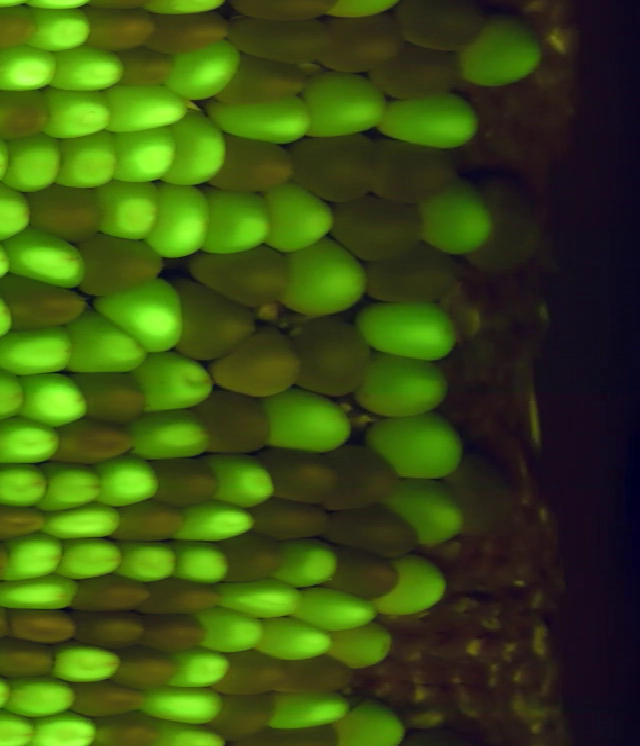fluorescent: (351, 345, 457, 415), (370, 412, 461, 484), (260, 392, 356, 458), (280, 242, 368, 314), (99, 283, 188, 353), (461, 18, 544, 90), (419, 179, 495, 256), (301, 71, 387, 139), (360, 303, 457, 363), (380, 95, 482, 149), (386, 480, 465, 549), (372, 554, 452, 619), (209, 94, 311, 144), (133, 350, 219, 409), (1, 229, 87, 288), (65, 312, 149, 371), (205, 188, 278, 254), (264, 182, 334, 249), (151, 183, 210, 261), (18, 368, 94, 428), (167, 110, 225, 187), (204, 451, 279, 510), (292, 585, 380, 633), (321, 618, 397, 673), (0, 324, 80, 376), (257, 615, 339, 665), (214, 578, 304, 623), (106, 126, 178, 180), (106, 81, 185, 130), (130, 414, 211, 461), (98, 180, 160, 241), (45, 85, 113, 139), (175, 502, 258, 544), (142, 686, 227, 727), (268, 689, 355, 729), (194, 609, 268, 656), (0, 137, 61, 193), (99, 456, 162, 509), (333, 703, 410, 746), (48, 46, 125, 89), (35, 462, 103, 510), (55, 135, 116, 188), (168, 48, 238, 94), (118, 540, 179, 589), (58, 537, 123, 582), (0, 418, 62, 465), (45, 503, 123, 540), (4, 678, 77, 717), (280, 542, 341, 588), (0, 574, 80, 609), (50, 644, 122, 682), (0, 48, 58, 93), (1, 538, 63, 580), (30, 8, 91, 50), (0, 463, 48, 513), (168, 649, 231, 687), (26, 713, 98, 746), (176, 544, 230, 587), (0, 184, 33, 239), (149, 724, 231, 746), (0, 711, 34, 746), (152, 1, 225, 12), (333, 1, 394, 13), (17, 1, 89, 9)
nonfluorescent: (169, 280, 263, 359), (188, 242, 295, 307), (471, 177, 542, 270), (330, 196, 430, 261), (352, 248, 464, 306), (291, 132, 382, 200), (70, 236, 172, 294), (297, 320, 371, 397), (308, 16, 408, 72), (0, 269, 89, 331), (210, 339, 303, 398), (372, 137, 458, 199), (369, 45, 467, 99), (227, 13, 332, 63), (196, 392, 275, 456), (208, 132, 295, 189), (319, 507, 418, 556), (217, 51, 308, 104), (451, 451, 509, 533), (25, 183, 107, 239), (71, 370, 151, 426), (329, 544, 402, 602), (403, 1, 483, 53), (257, 446, 335, 498), (52, 418, 138, 464), (328, 450, 395, 509), (149, 11, 234, 50), (82, 8, 163, 47), (149, 457, 215, 504), (250, 499, 329, 538), (215, 691, 279, 739), (68, 575, 152, 611), (115, 501, 186, 540), (0, 88, 53, 140), (218, 652, 283, 694), (72, 680, 145, 717), (145, 576, 219, 612), (143, 610, 210, 649), (6, 608, 77, 644), (217, 536, 279, 577), (76, 609, 148, 644), (0, 637, 57, 680), (111, 49, 177, 86), (113, 651, 179, 687), (228, 1, 336, 22), (281, 662, 353, 690), (94, 719, 167, 746), (0, 4, 42, 50), (0, 502, 46, 538), (86, 1, 149, 7)
